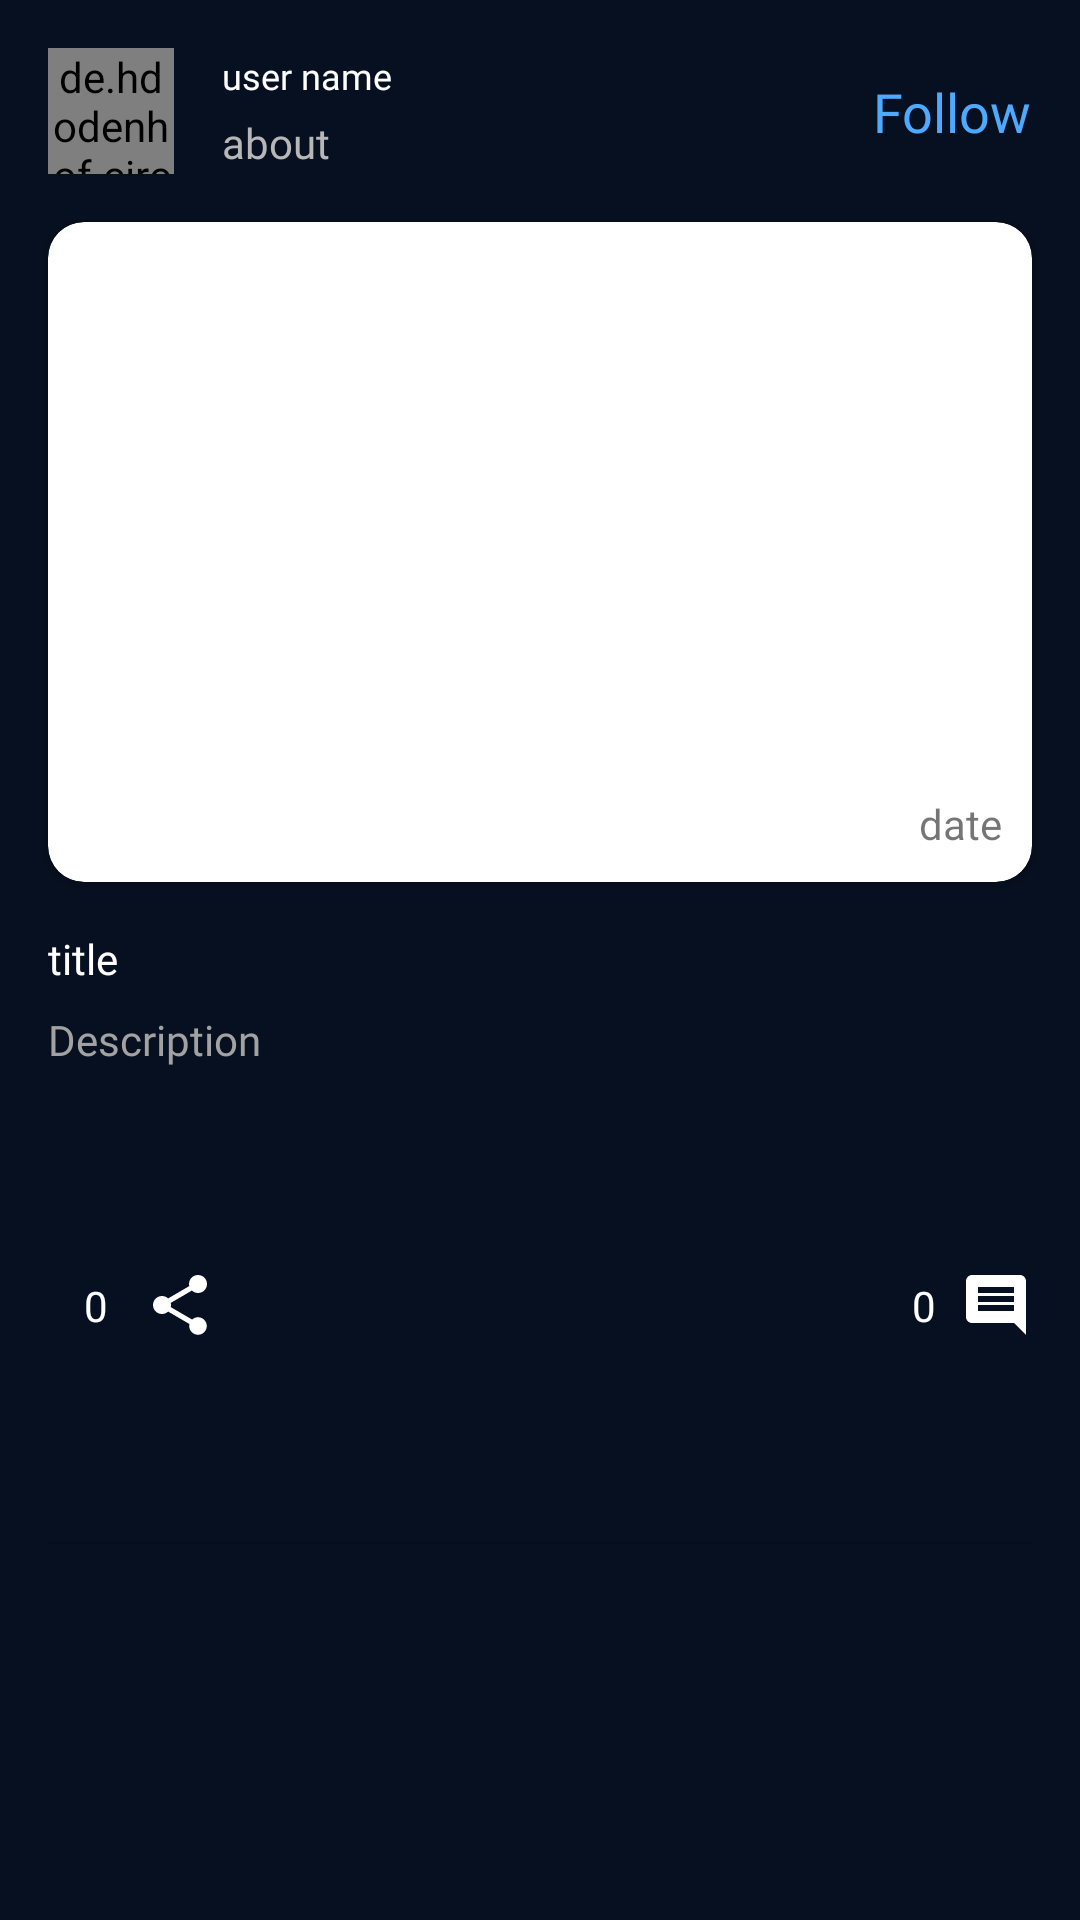

Screen size 1080w x 1920h. Icon name, then its center in pixels as [x,y]:
comment: [996,1305]
share: [180,1305]
